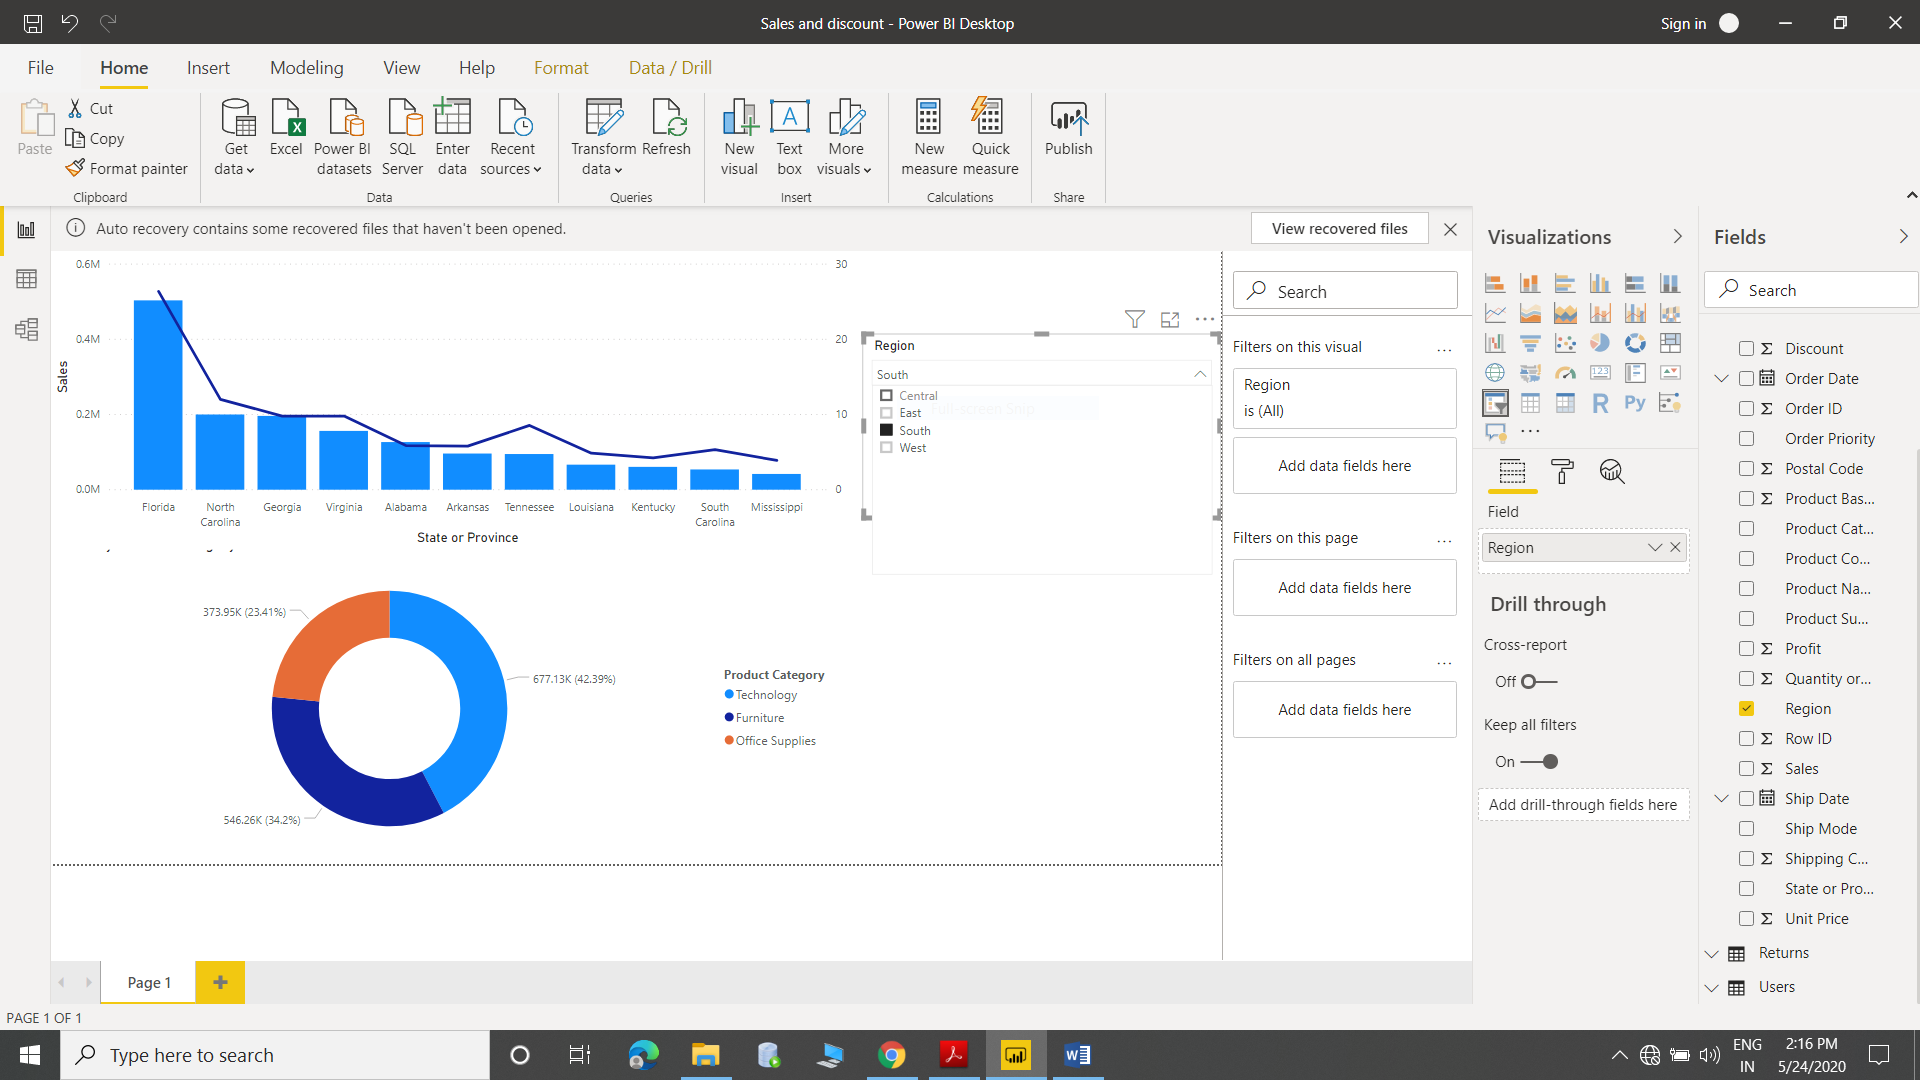

Layout of this report page (visuals, bound fields, positions):
{"tool":"powerbi","page":{"name":"Page 1","canvas":[1280,720],"ordinal":0},"visuals":[{"type":"donutChart","fields":{"Category":["Orders.Product Category"],"Y":["Sum(Orders.Sales)"]},"box":[0,359.7,867,361],"z":0},{"type":"lineClusteredColumnComboChart","fields":{"Category":["Orders.State or Province"],"Y2":["Sum(Orders.Discount)"],"Y":["Sum(Orders.Sales)"]},"box":[0,0,876.6,376.1],"z":1},{"type":"slicer","fields":{"Values":["Orders.Region"]},"box":[887.5,139.5,392.5,203.8],"z":2}]}

Visuals, with their boxes on the page's 1280x720 design canvas (x1, y1, x2, y2). These are canvas units, not pixel positions in the 1920x1080 screenshot, which may show the page scaled, cropped or inside an application window:
donutChart - Orders.Product Category x Sum(Orders.Sales): bbox=(0, 360, 867, 721)
lineClusteredColumnComboChart - Orders.State or Province x Sum(Orders.Discount): bbox=(0, 0, 877, 376)
slicer - Orders.Region: bbox=(888, 140, 1280, 343)
